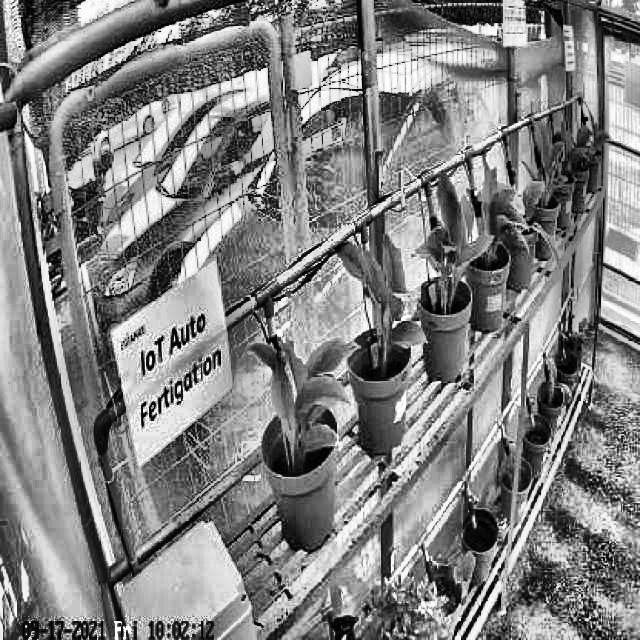plants: (246, 341, 360, 456), (332, 232, 428, 351), (414, 172, 478, 302), (477, 153, 526, 262)
